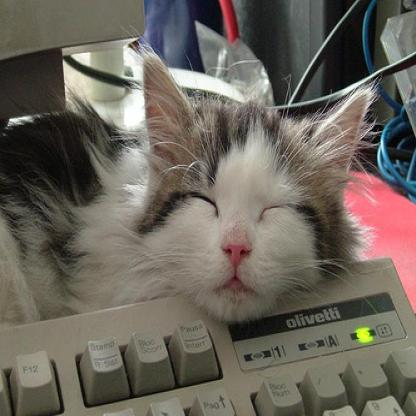cat: (0, 43, 386, 326)
